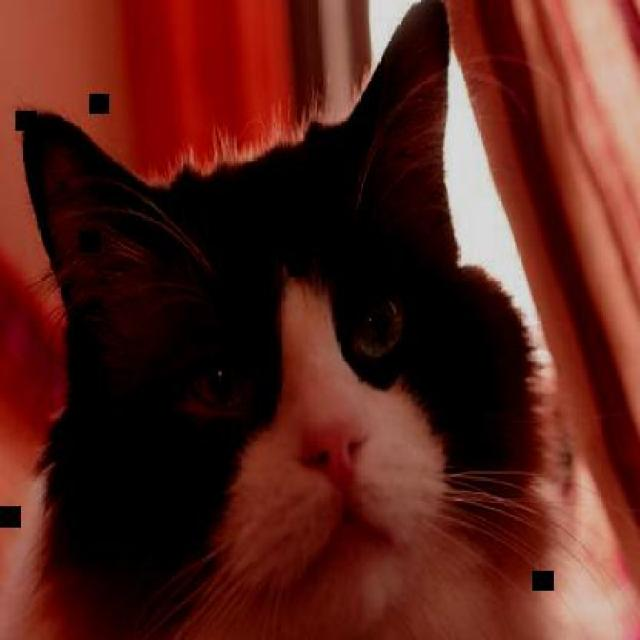cat: (20, 0, 544, 638)
